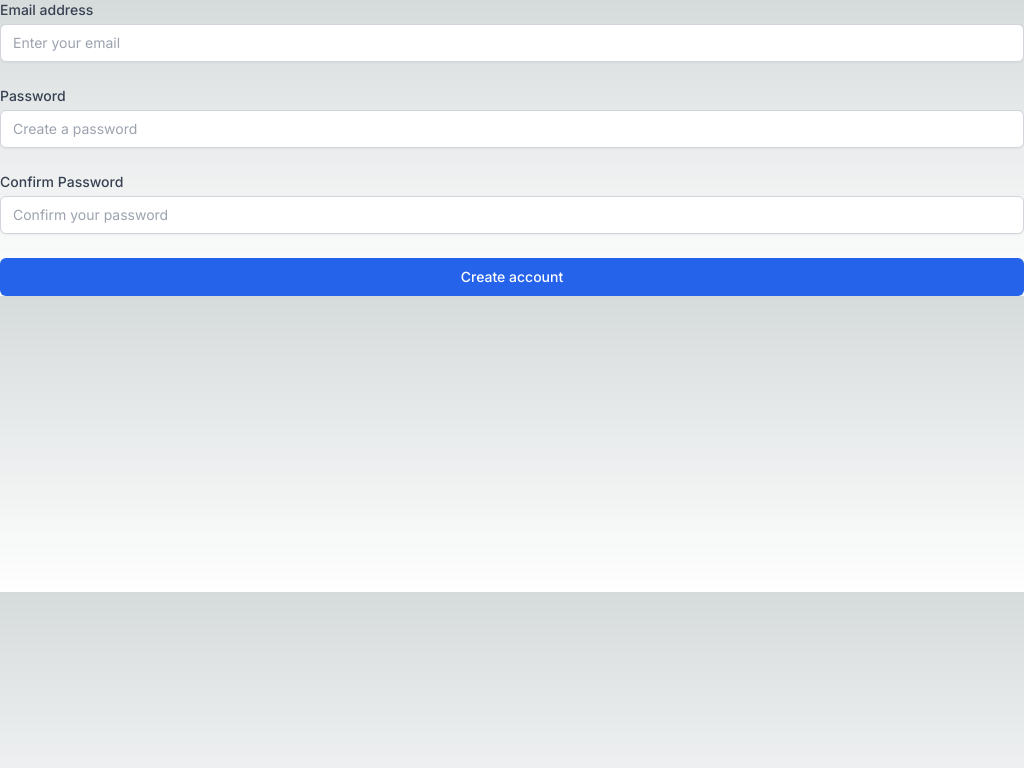
RegisterForm › shows password strength indicator
This screenshot has width=1024, height=768.
Type "weak" into the password field labelled "Password" at (512, 129), box left=0, top=110, right=1023, bottom=148
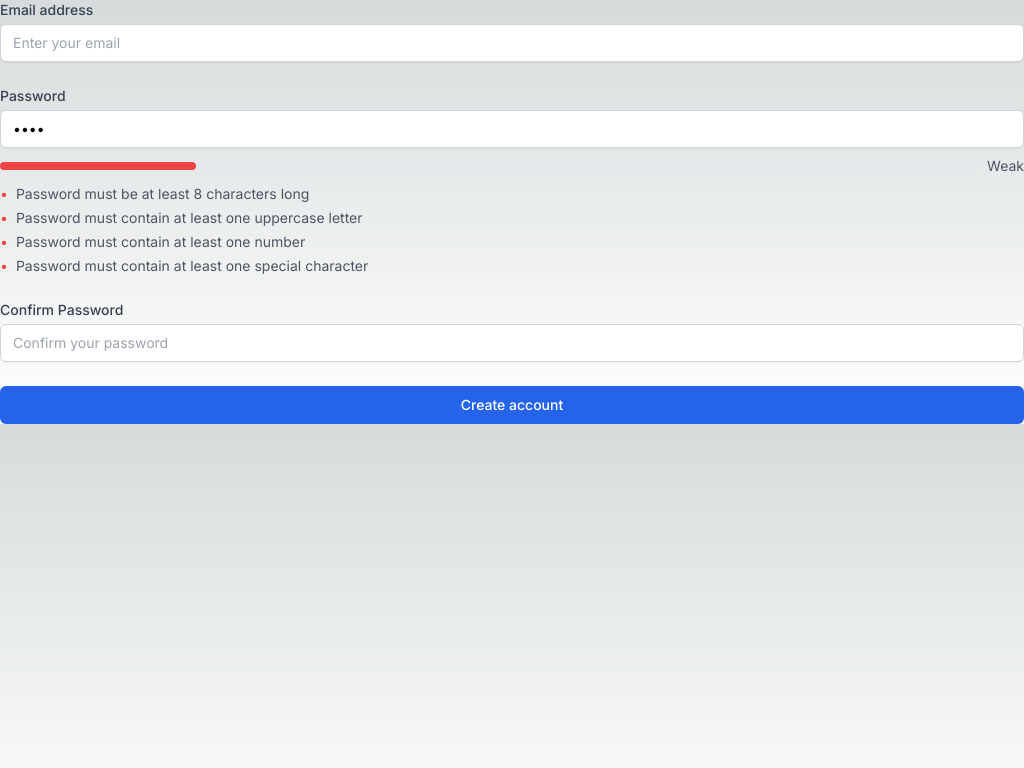
Check: the text "Weak" is shown, box left=987, top=156, right=1023, bottom=176
Check: the text "Password must be at least 8 characters long" is shown, box left=16, top=184, right=309, bottom=204
